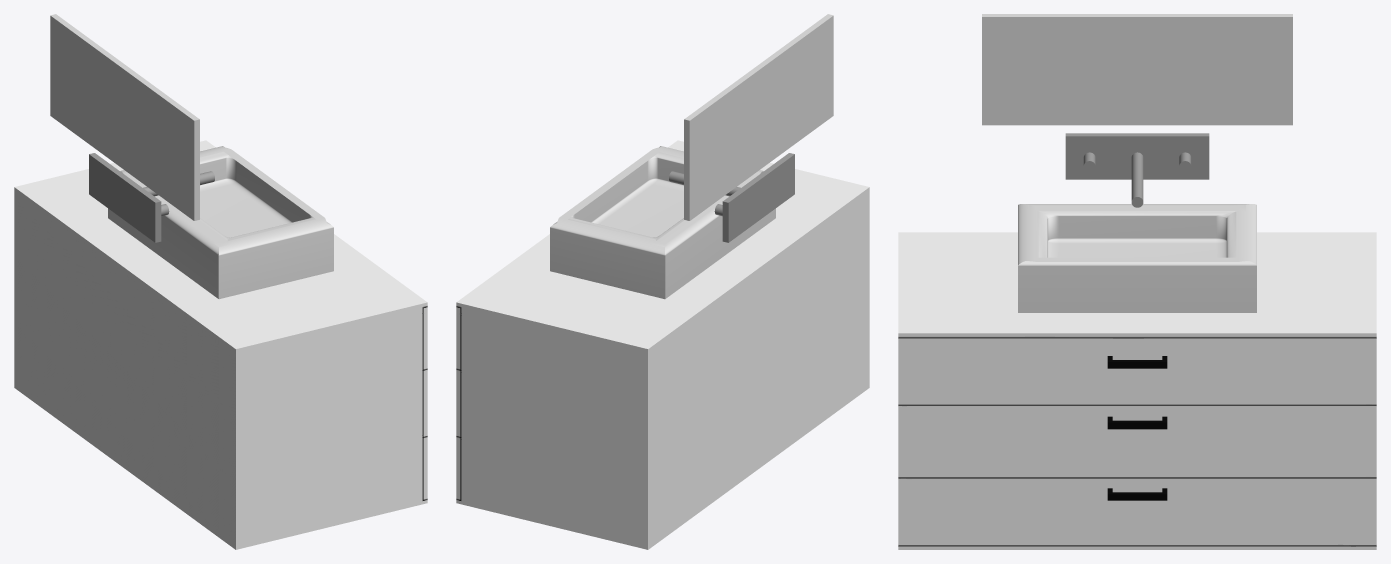
The model's file is Sink.glb.
3 views of the same model, side by side, from view 1: azimuth 30°, elevation 25°; view 2: azimuth 150°, elevation 25°; view 3: azimuth 270°, elevation 25° (orthographic). The views are drawn at different scales.
Parts seen in each view (by area): view 1: Cube, Cube.004, Cube.006, Cube.005; view 2: Cube, Cube.004, Cube.006, Cube.005; view 3: Cube, Cube.006, Cube.004, Cube.005, Cylinder.002, Cube.001, Cube.002, Cube.003.
Boxes of the visible parts, x1,y1,x2,y2 form: Cube: [14, 140, 427, 549]; Cube.004: [108, 146, 333, 299]; Cube.006: [50, 14, 199, 220]; Cube.005: [89, 153, 161, 242]; Cube: [456, 140, 869, 549]; Cube.004: [550, 146, 775, 299]; Cube.006: [684, 14, 833, 220]; Cube.005: [722, 153, 794, 242]; Cube: [898, 232, 1376, 549]; Cube.006: [982, 14, 1292, 125]; Cube.004: [1018, 204, 1256, 312]; Cube.005: [1065, 133, 1209, 179]; Cylinder.002: [1131, 152, 1143, 207]; Cube.001: [1107, 416, 1167, 429]; Cube.002: [1107, 488, 1167, 500]; Cube.003: [1107, 356, 1167, 368].
Bounding box in the file's own units: 1.07 × 2 × 2.
6 materials, 1 textured.
